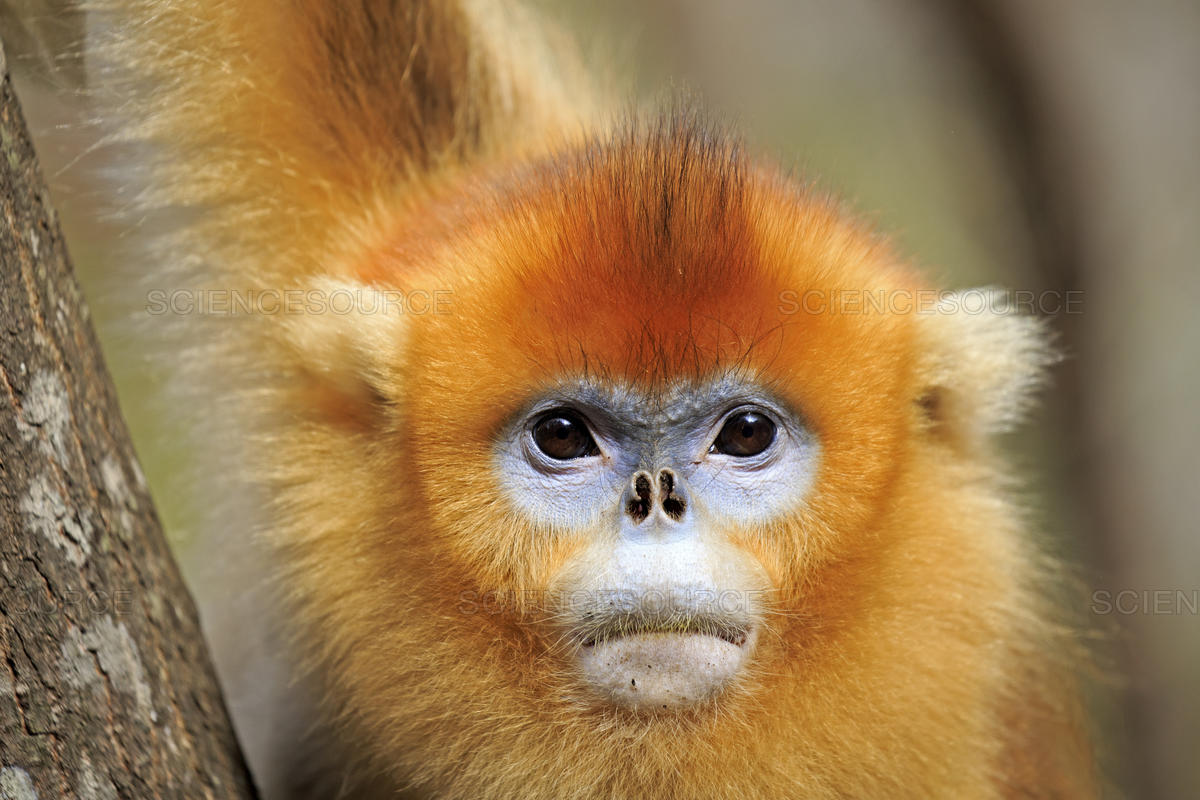GoldenSnub-Nosed: (225, 60, 1040, 767)
